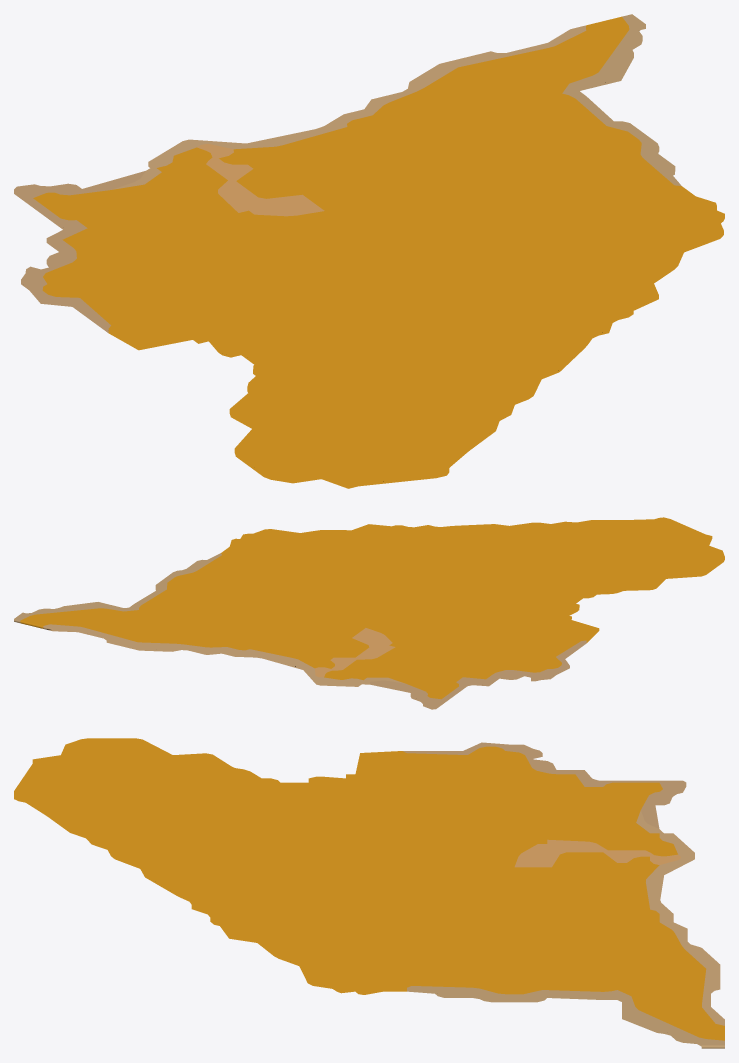
The picture shows the model from 3 angles, top to bottom: view 1: azimuth 30°, elevation 25°; view 2: azimuth 150°, elevation 25°; view 3: azimuth 270°, elevation 25°; orthographic projection. The views are drawn at different scales.
Visible parts, largest first — view 1: Syria; view 2: Syria; view 3: Syria.
Boxes of the visible parts, bbox=[...] form: Syria: bbox=[14, 14, 724, 488]; Syria: bbox=[14, 517, 724, 709]; Syria: bbox=[14, 738, 724, 1048].
Size of the model in its own units: 25.08 by 0.1449 by 24.57.
